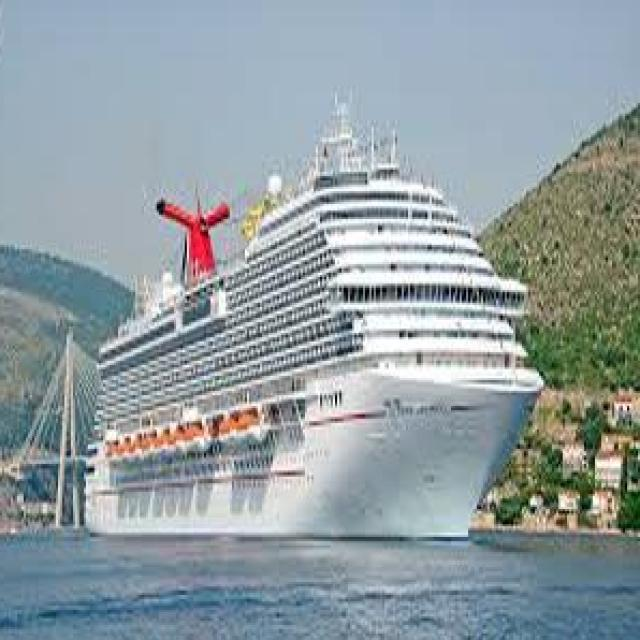passenger ship: (75, 134, 550, 536)
